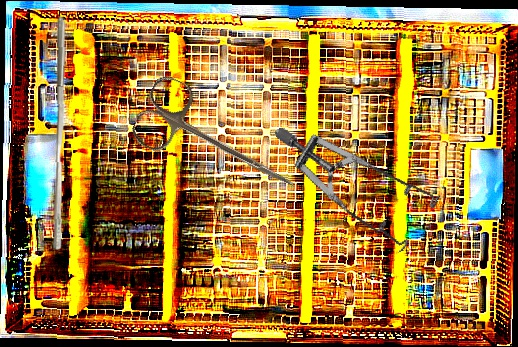Iris Scissors: (127, 71, 312, 215)
Pusher: (47, 14, 71, 252)
Speculum: (273, 80, 455, 279)
